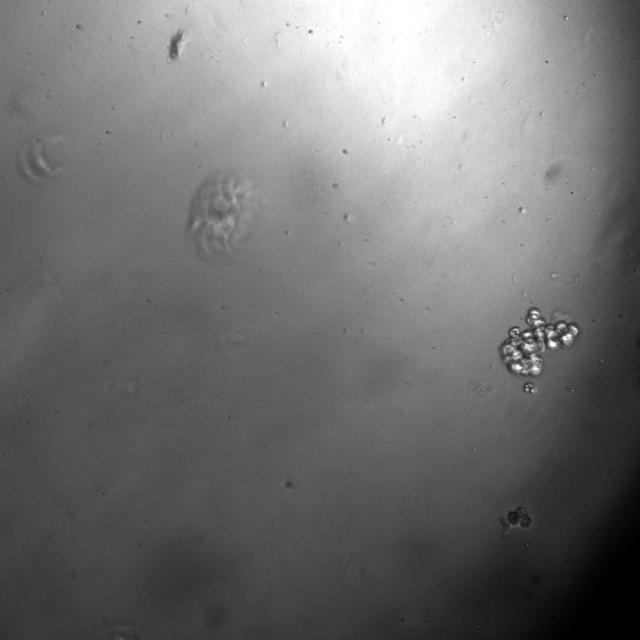organoid: (186, 170, 258, 255), (500, 307, 578, 374), (499, 507, 532, 531), (523, 381, 538, 395)
